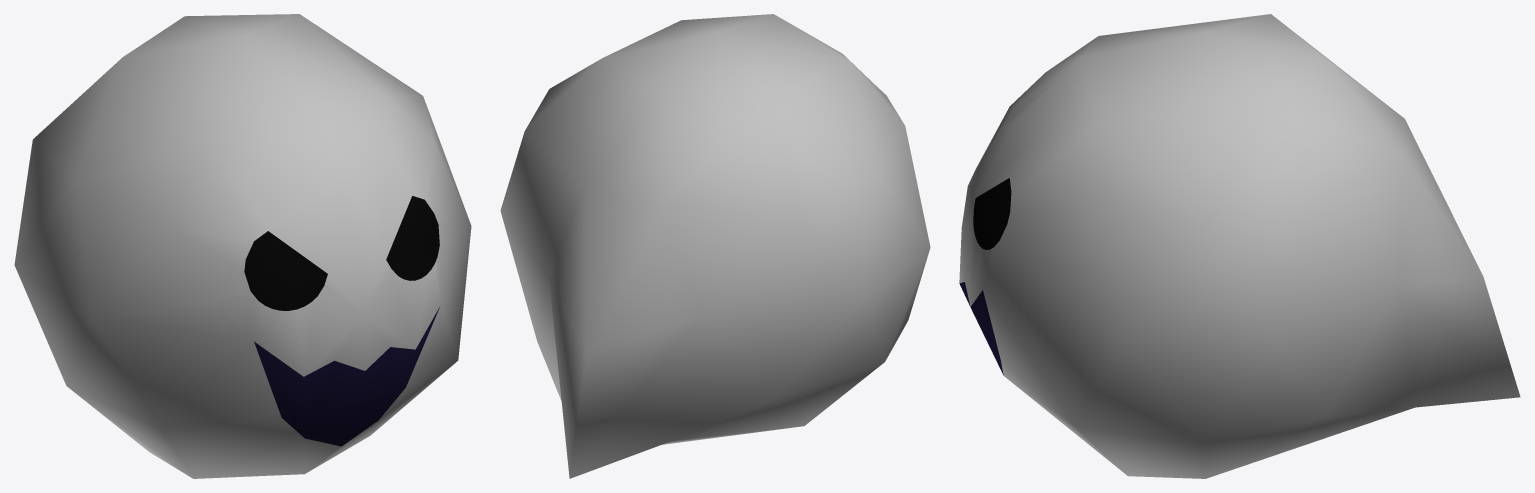
File: EnemySphere.fbx
The picture shows the model from 3 angles, left to right: view 1: azimuth 30°, elevation 25°; view 2: azimuth 150°, elevation 25°; view 3: azimuth 270°, elevation 25°; orthographic projection. The views are drawn at different scales.
Visible parts, largest first — view 1: EnemySphere; view 2: EnemySphere; view 3: EnemySphere.
Part boxes in pixels (x1=…): EnemySphere: x1=14, y1=14, x2=471, y2=478; EnemySphere: x1=500, y1=14, x2=930, y2=478; EnemySphere: x1=959, y1=14, x2=1520, y2=478.
Size of the model in its own units: 1.86 by 1.92 by 2.31.
